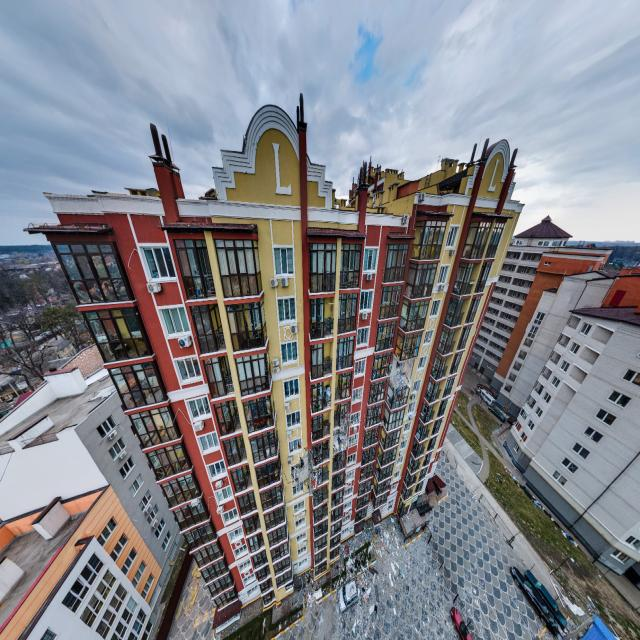broken_window: (410, 221, 447, 260), (249, 419, 279, 464), (404, 263, 438, 299), (399, 299, 429, 332), (384, 244, 409, 282), (260, 473, 284, 512), (394, 331, 423, 362), (379, 286, 403, 320), (375, 320, 397, 352), (386, 382, 410, 410), (270, 531, 290, 562), (445, 298, 464, 328), (273, 546, 291, 576), (372, 352, 391, 380), (437, 327, 455, 356), (276, 558, 292, 588), (380, 428, 401, 450), (365, 403, 383, 428), (430, 355, 447, 381), (377, 445, 397, 467), (368, 380, 387, 403), (424, 378, 440, 403), (338, 371, 352, 399), (312, 484, 329, 507), (375, 462, 394, 481), (373, 477, 391, 497), (363, 426, 379, 447), (370, 491, 388, 509), (419, 401, 433, 424), (332, 450, 346, 473), (314, 502, 328, 524), (362, 445, 376, 466), (415, 421, 428, 442), (359, 463, 374, 481), (314, 520, 328, 539), (332, 471, 344, 492), (411, 439, 423, 459), (331, 489, 343, 509), (356, 493, 369, 511), (358, 480, 371, 497), (355, 507, 368, 523), (357, 328, 369, 345), (331, 506, 342, 524), (352, 386, 363, 403), (330, 521, 341, 538), (350, 412, 360, 427), (330, 535, 340, 550), (349, 434, 358, 447), (347, 453, 356, 466), (388, 500, 393, 509)
building: (22, 92, 525, 634)
damage: (291, 439, 330, 496), (389, 355, 416, 390), (333, 401, 350, 455)
other: (3, 0, 636, 206), (435, 0, 640, 626), (126, 486, 640, 640)
